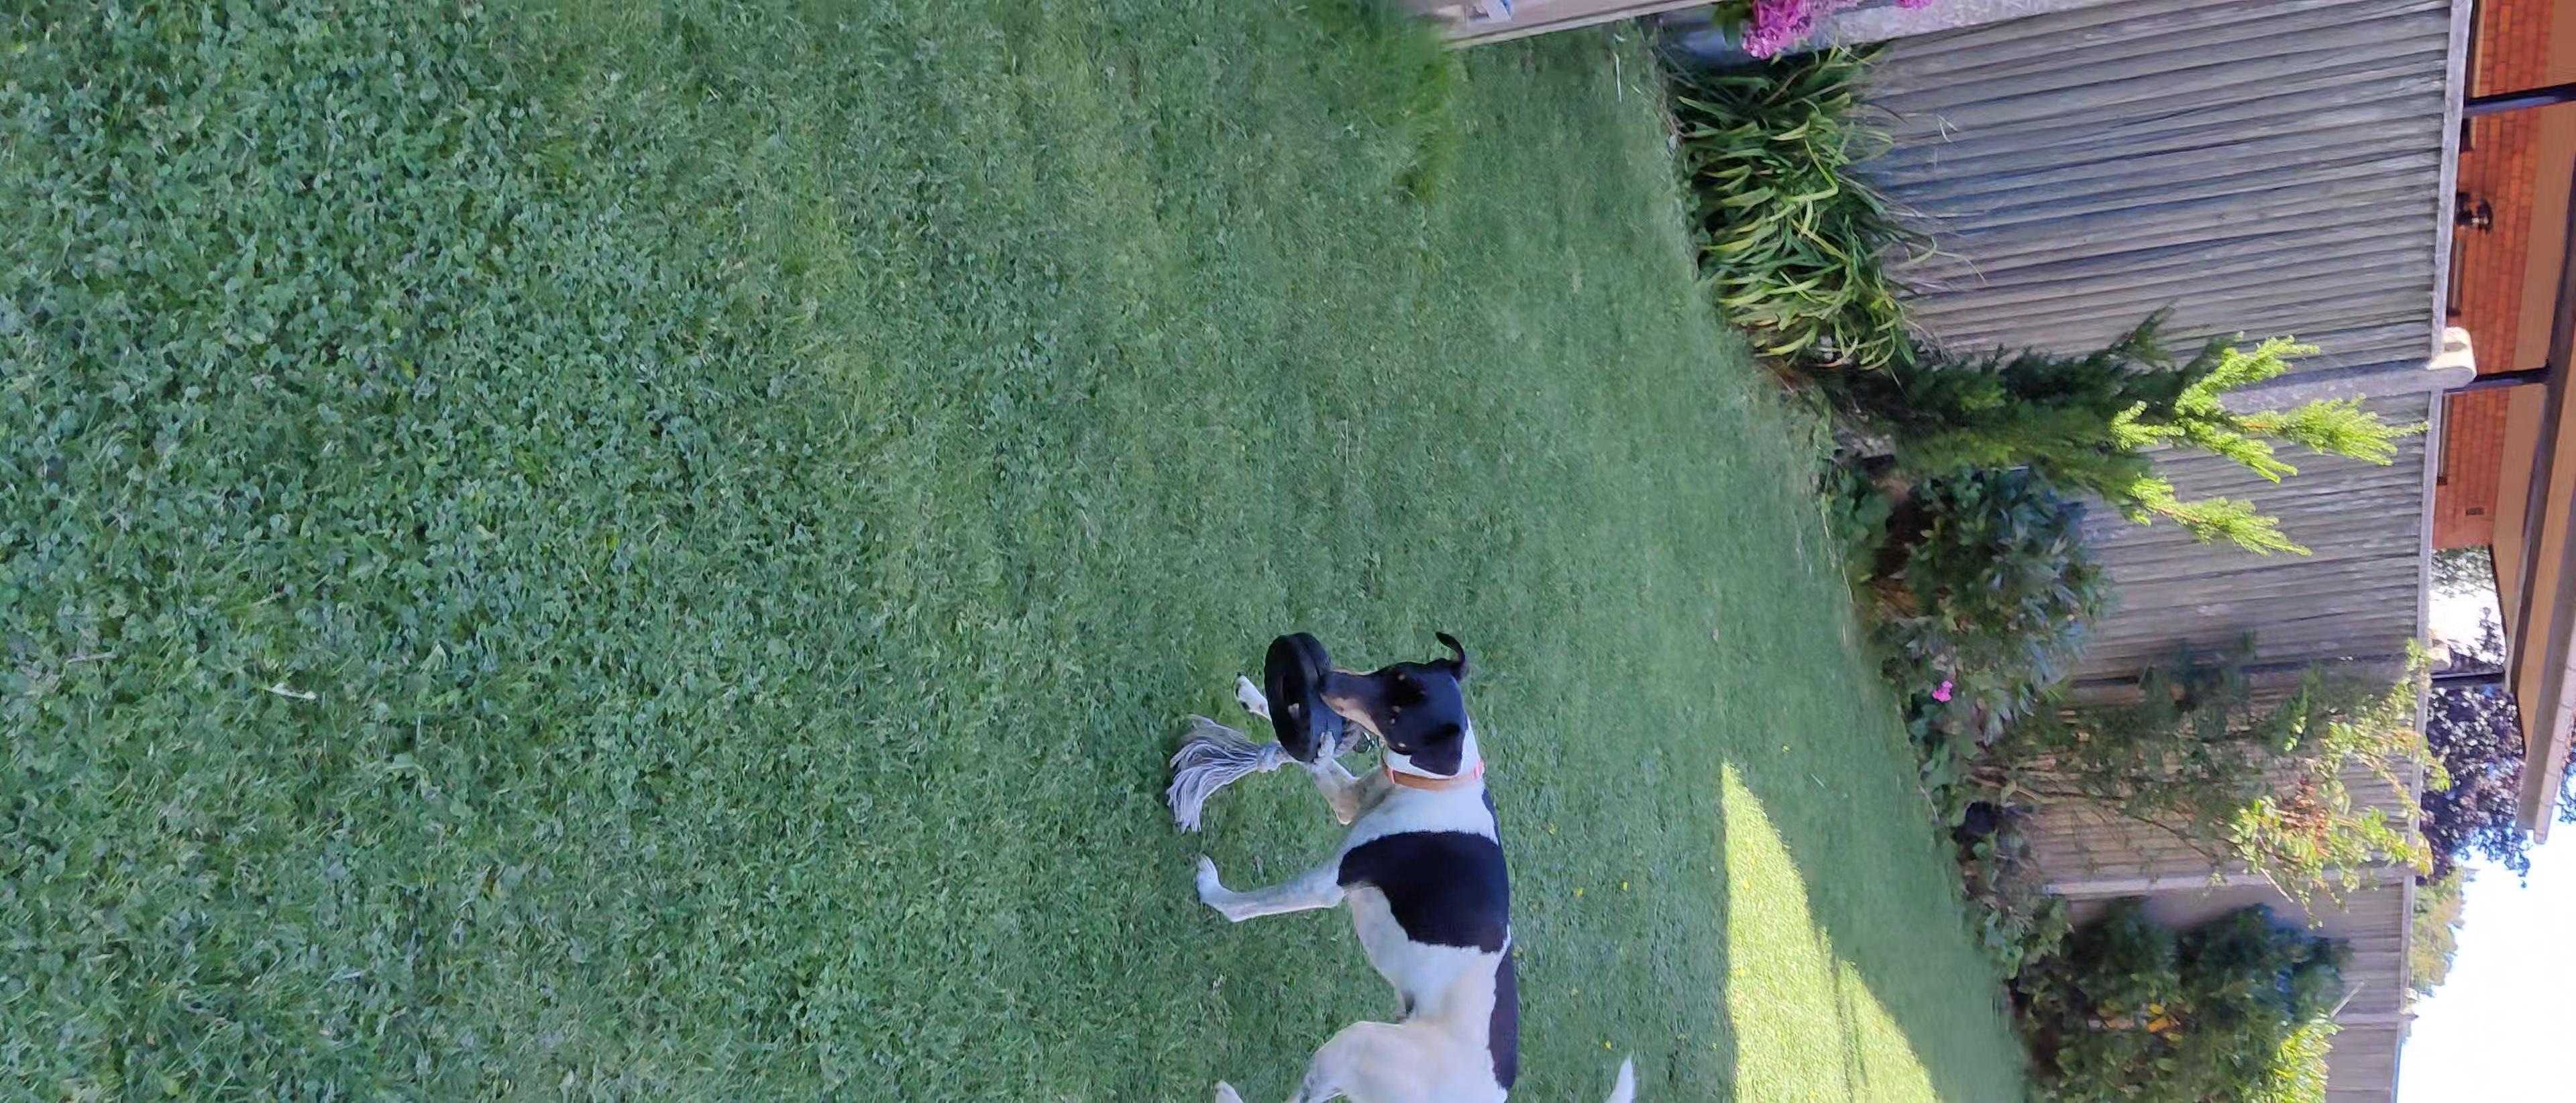Dog: (1188, 626, 1643, 1103)
